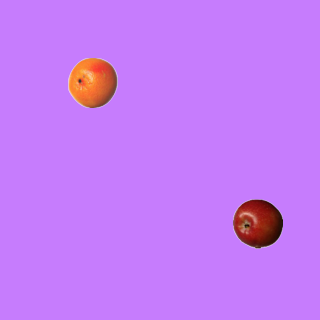Apple Braeburn: (232, 198, 282, 248)
Grapefruit Pink: (67, 57, 117, 107)
